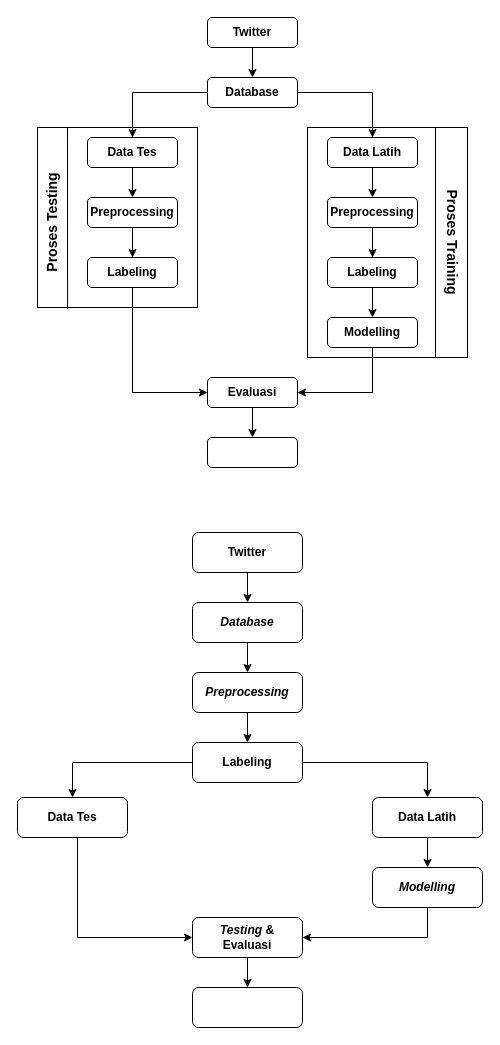
The diagram is 500 pixels wide and 1045 high, and some of its shapes have lost their labels. Here are the shapes that lost their labels. From the top down, the centre of each, then its label:
At (x=252, y=452): "Hasil".
At (x=247, y=1007): "Visualisan Hasil".
